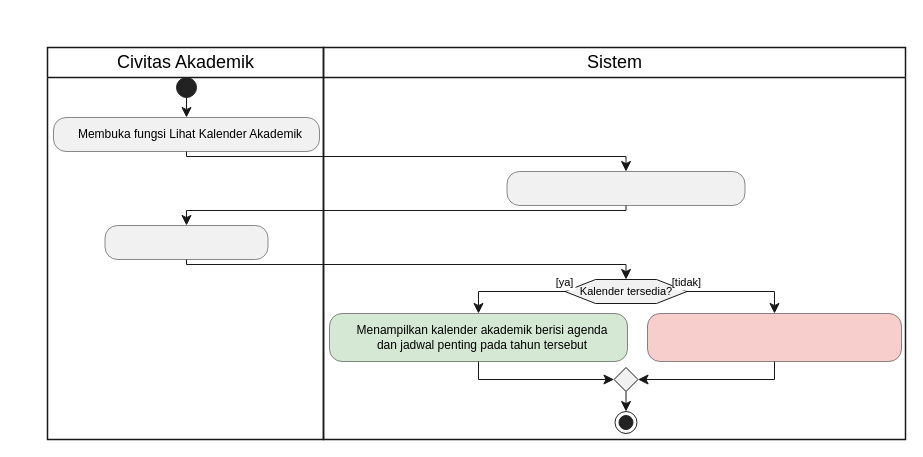
Some shapes in this 923 by 457 pixel diagram are drawn without their labels. The shapes that lost their labels are listed below. From the top down, each one's box as (x1, y1, x2, y2) in pixels, then its label:
(506, 171, 745, 205): Menampilkan pilihan tahun akademik
(104, 225, 268, 259): Memilih tahun akademik
(647, 313, 901, 361): Menampilkan pesan kalender akademik belum tersedia
